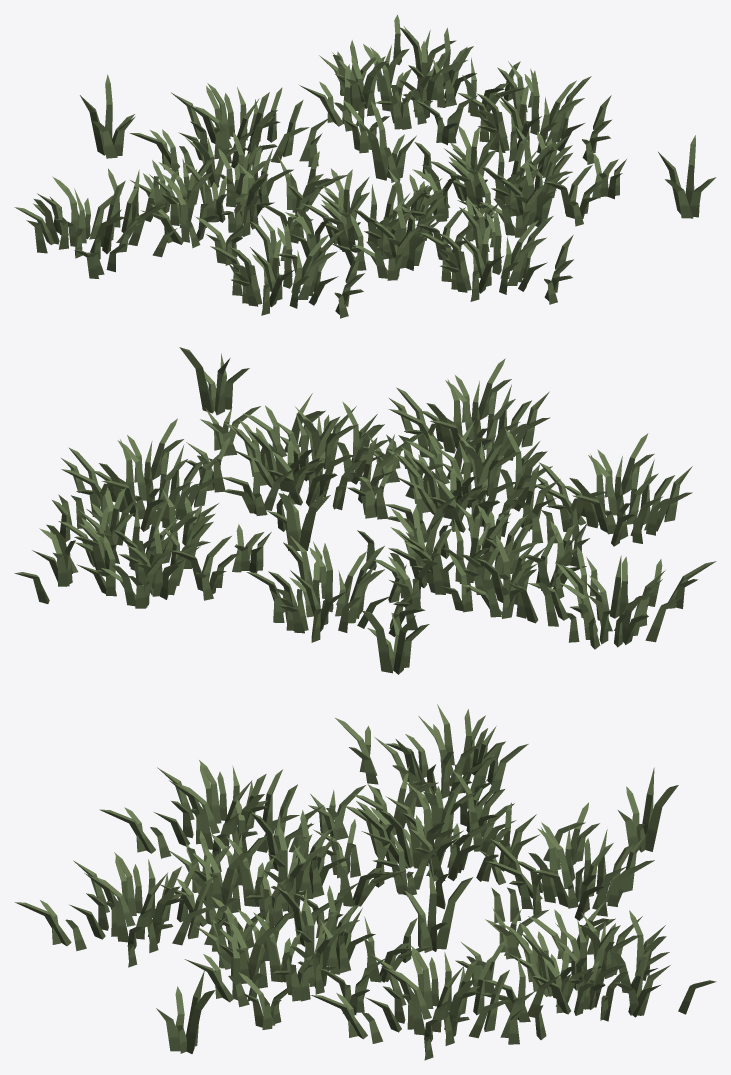
Rendered from Env_Grass_07.glb.
The picture shows the model from 3 angles, top to bottom: view 1: azimuth 30°, elevation 25°; view 2: azimuth 150°, elevation 25°; view 3: azimuth 270°, elevation 25°; orthographic projection. The views are drawn at different scales.
Visible parts, largest first — view 1: SM_Gen_Env_Grass_07; view 2: SM_Gen_Env_Grass_07; view 3: SM_Gen_Env_Grass_07.
Boxes of the visible parts, x1,y1,x2,y2 form: SM_Gen_Env_Grass_07: (14, 15, 716, 318); SM_Gen_Env_Grass_07: (14, 347, 716, 674); SM_Gen_Env_Grass_07: (15, 704, 716, 1060).
Size of the model in its own units: 8.08 by 0.8505 by 7.61.
Materials: 1 (1 with a texture image).
